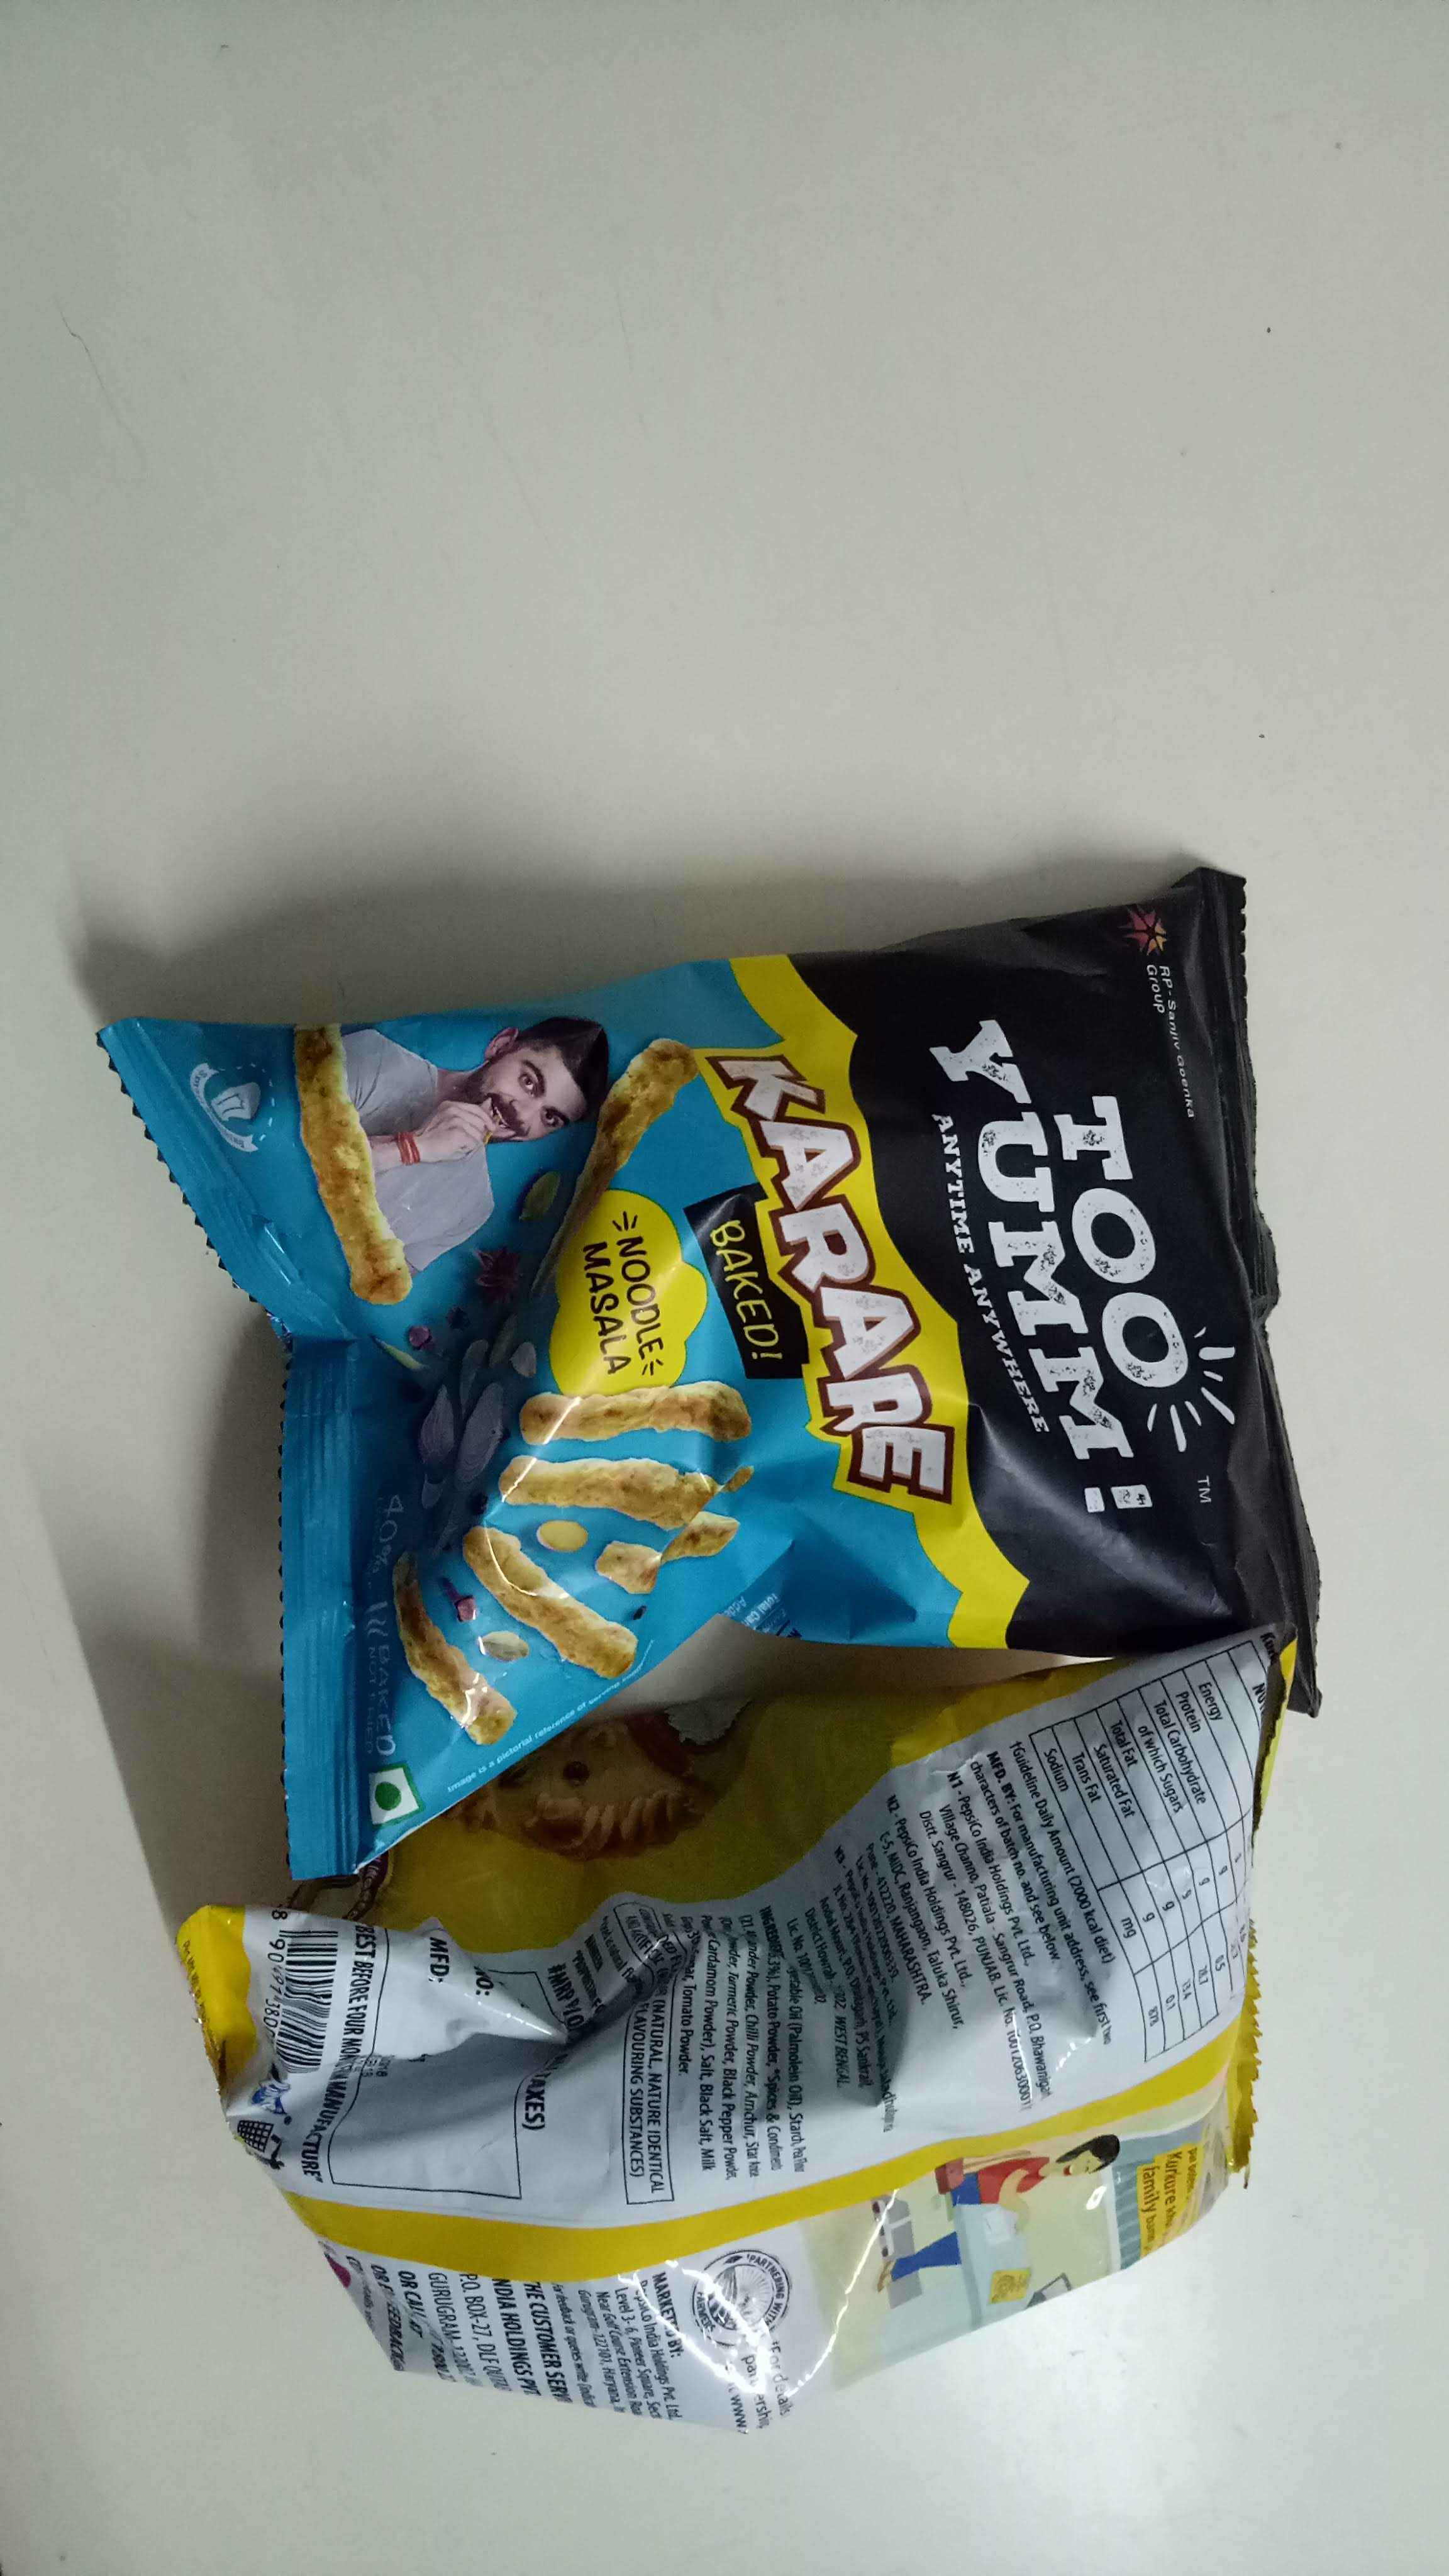tooyumm: (913, 968, 1254, 1502)
